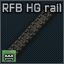RFB handguard rail mount: (0, 0, 64, 64)
